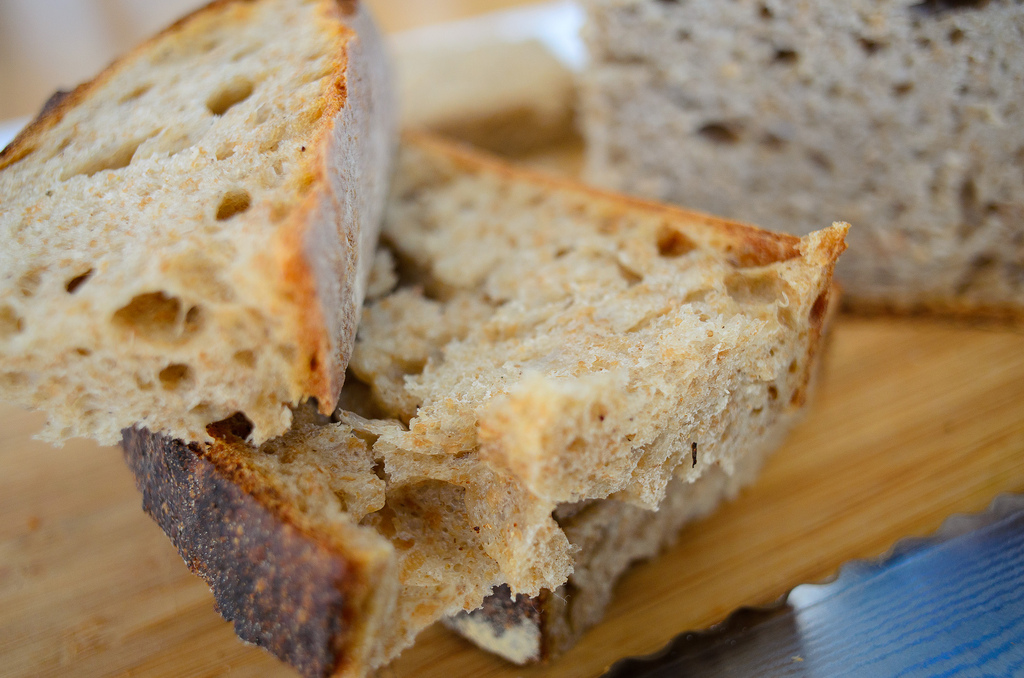slice of bread: (172, 180, 842, 664), (8, 1, 406, 422), (577, 3, 1023, 338)
